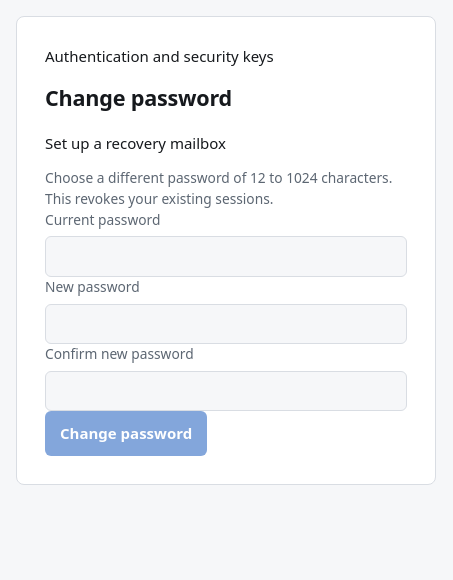
Test case: refuses mismatched confirmation without contacting the service
Type "synthetic-current" into the password field labelled "Current password" at (226, 257), box [45,236,407,277]
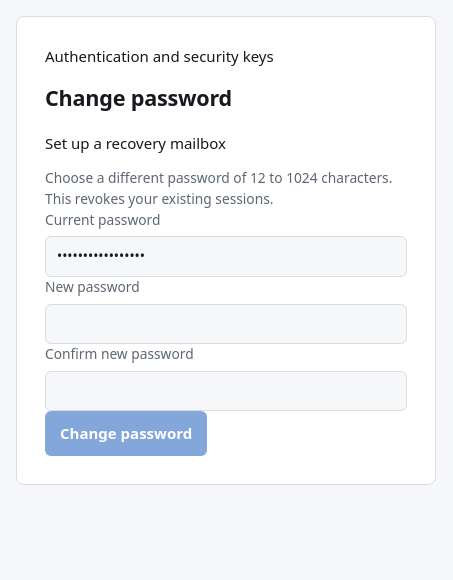
Type "synthetic-replacement" into the password field labelled "New password" at (226, 324), box [45,304,407,344]
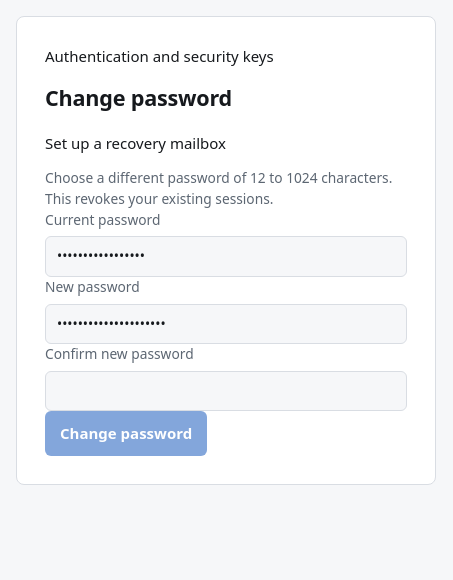
Type "synthetic-replacement" into the password field labelled "Confirm new password" at (226, 391), box [45,371,407,411]
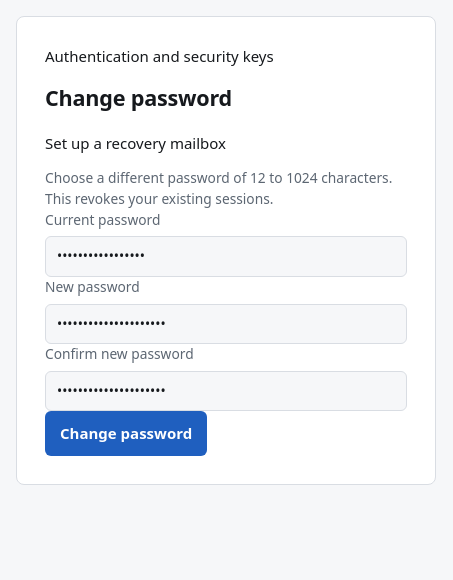
Type "different" into the password field labelled "Confirm new password" at (226, 391), box [45,371,407,411]
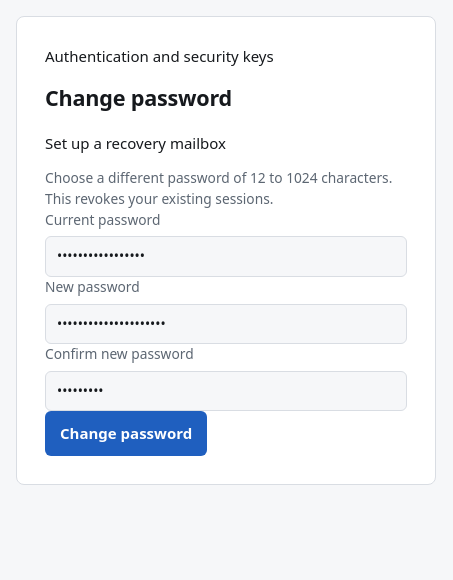
Submit the form, box [45,168,407,456]
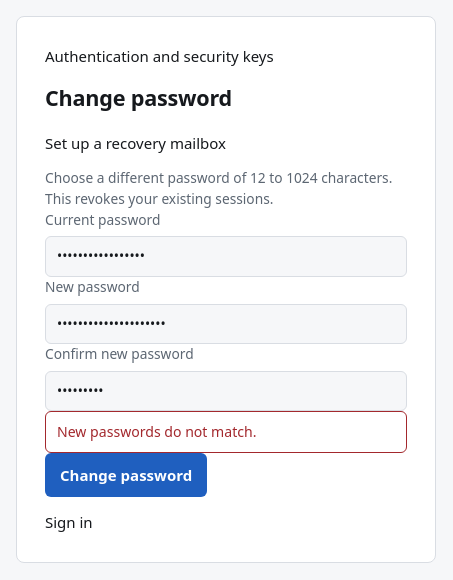
Now the text "do not match" is shown, box [57,422,256,442]
